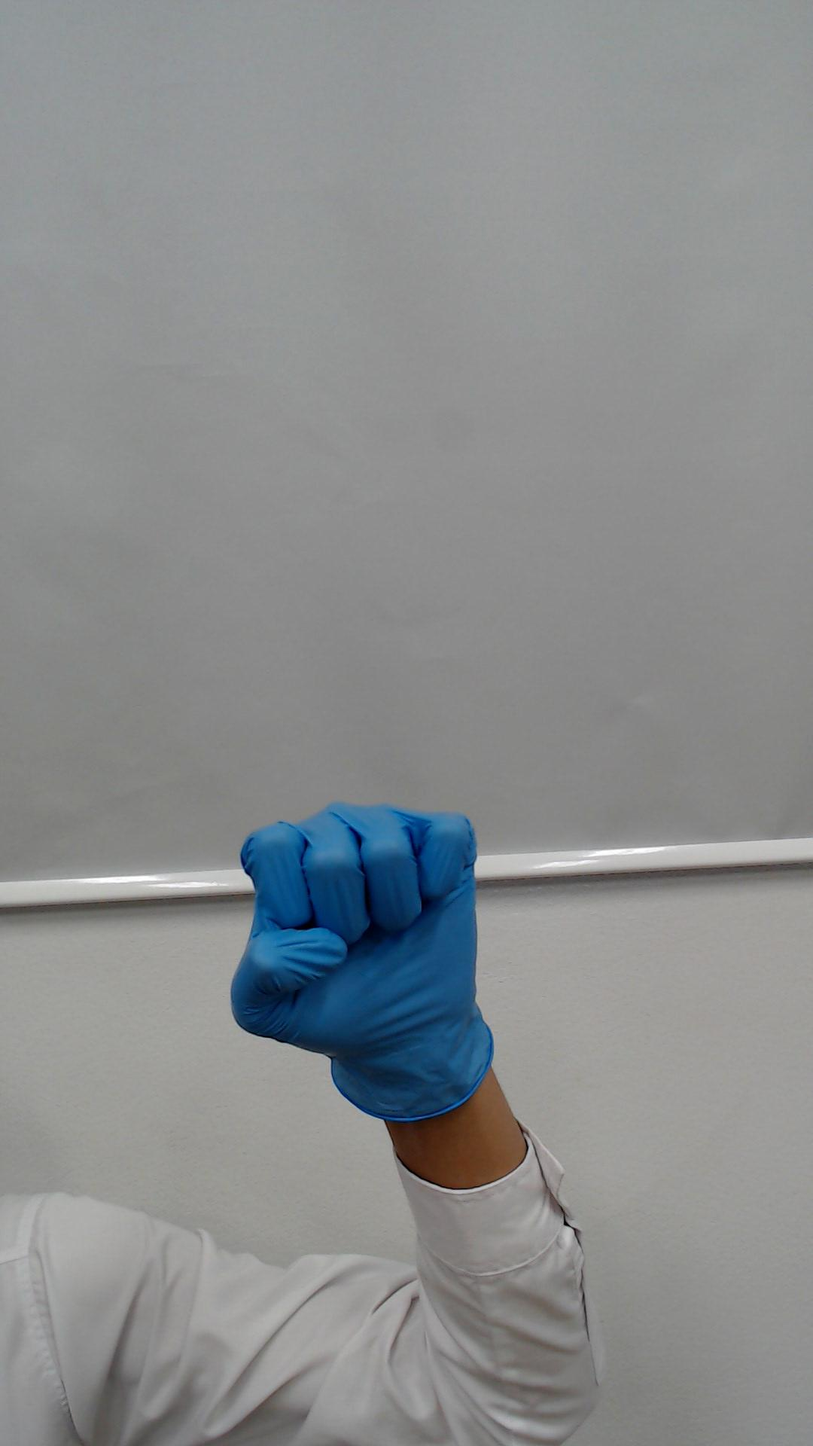gloves: (202, 746, 512, 1043)
